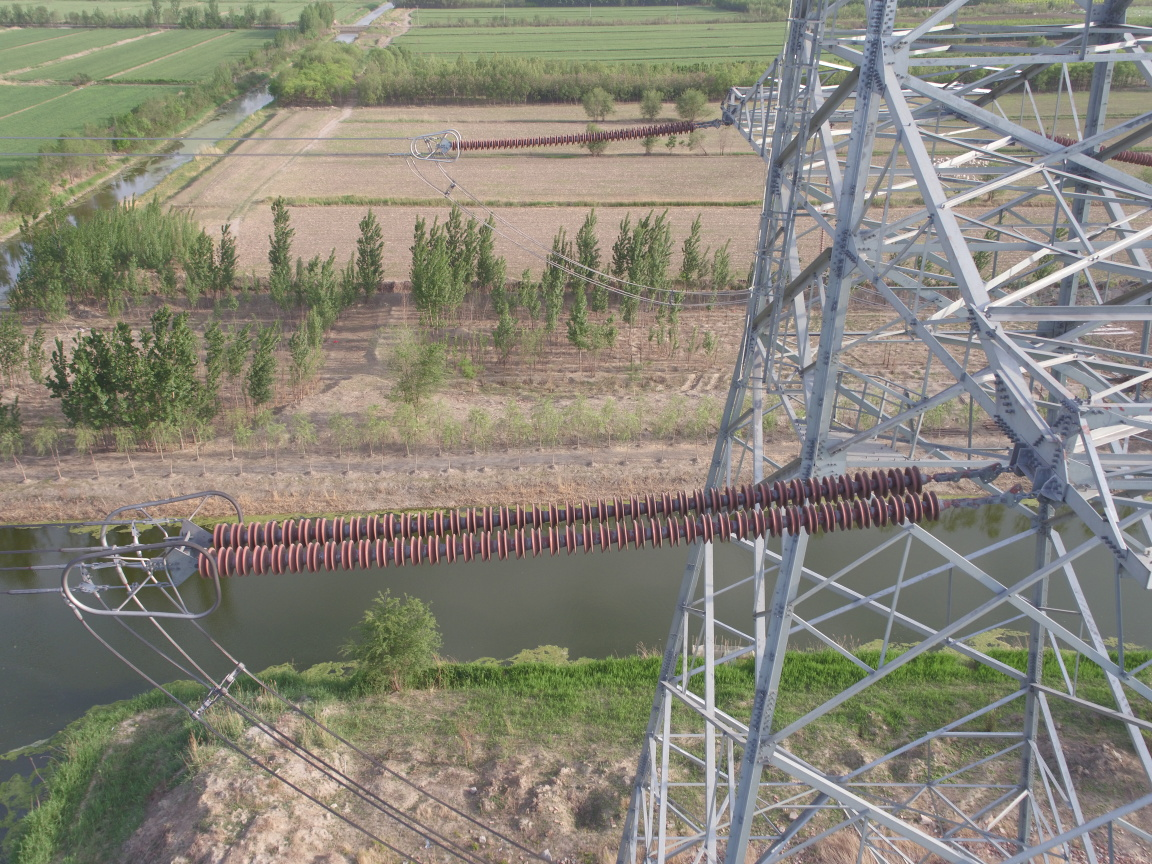insulator: (181, 460, 974, 579), (446, 117, 703, 153)
